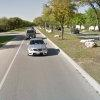Car: (23, 38, 50, 58)
